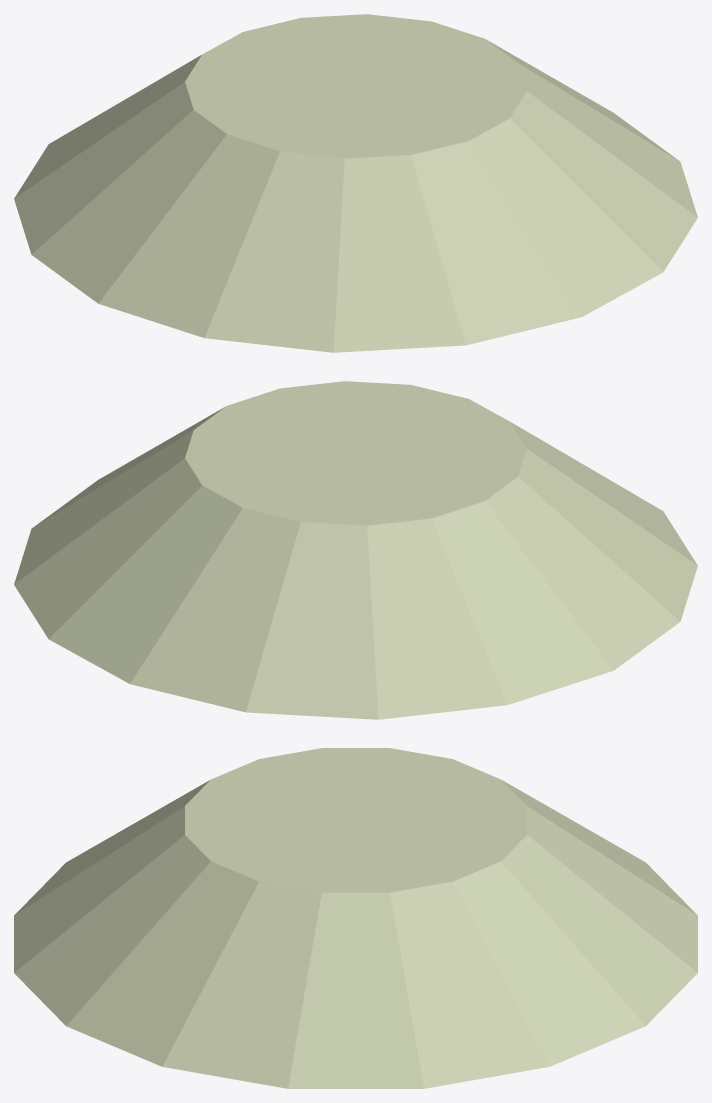
Rendered from tantares_adapter_s1_s0_1_collider.obj.
3 views of the same model, one above another, from view 1: azimuth 30°, elevation 25°; view 2: azimuth 150°, elevation 25°; view 3: azimuth 270°, elevation 25° (orthographic).
Visible parts, largest first — view 1: coll; view 2: coll; view 3: coll.
Part boxes in pixels (<box>): coll: <box>14,14,697,352</box>; coll: <box>14,381,697,719</box>; coll: <box>14,748,697,1088</box>.
Size of the model in its own units: 1.25 by 0.25 by 1.25.
